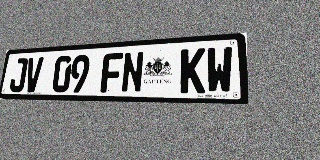0: (51, 55, 73, 92)
9: (69, 54, 91, 93)
F: (100, 52, 123, 93)
J: (9, 58, 28, 92)
K: (180, 48, 205, 93)
N: (121, 51, 144, 93)
V: (23, 57, 44, 92)
W: (206, 46, 233, 93)
